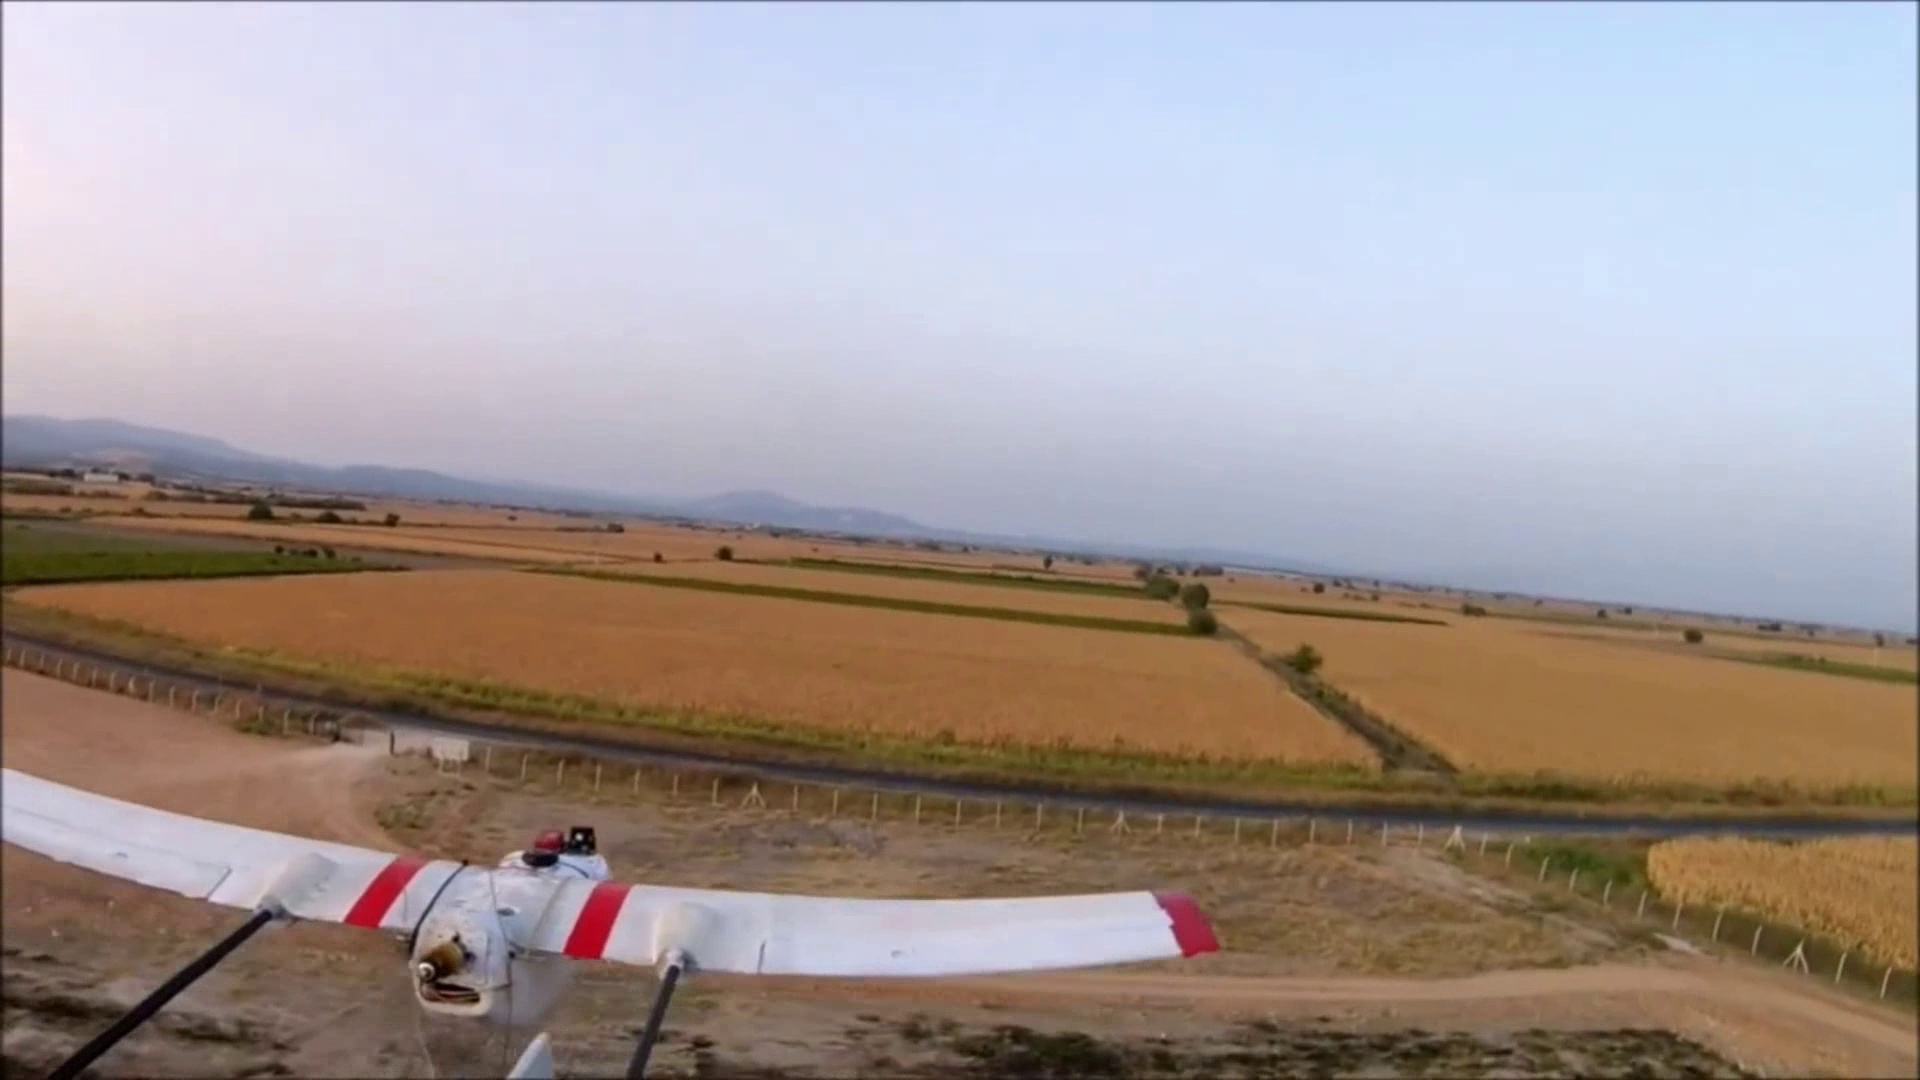airplane: (7, 760, 1222, 1036)
